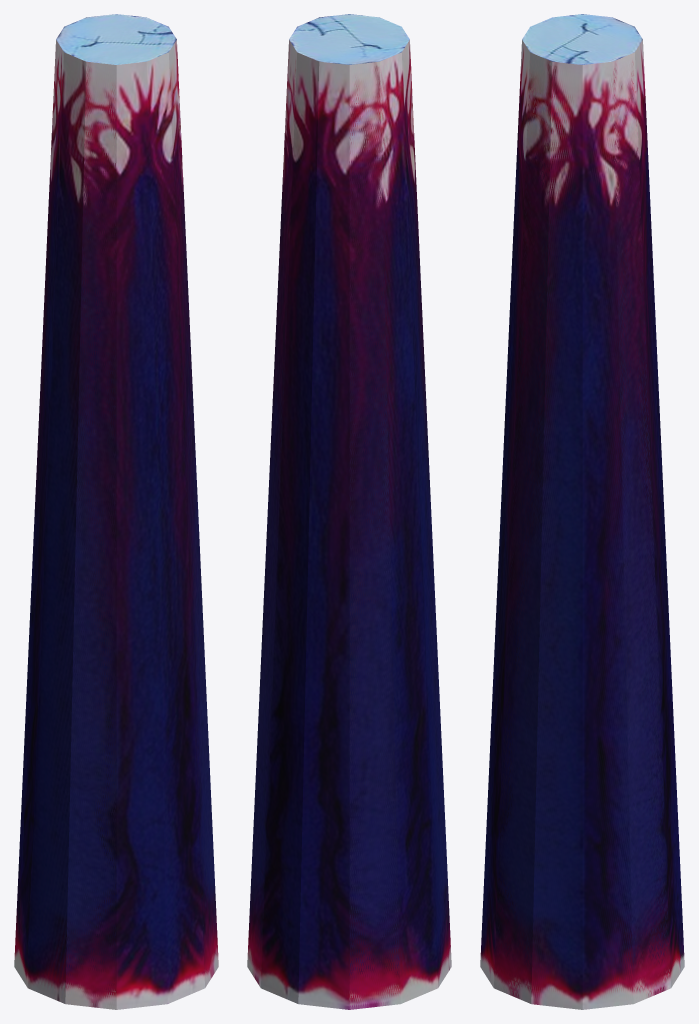
File: sea-root-south-texture-wrap-2026-05-15T01-47-18-792Z.glb
3 renders of one model, left to right at view 1: azimuth 30°, elevation 25°; view 2: azimuth 150°, elevation 25°; view 3: azimuth 270°, elevation 25°, orthographic.
Parts seen in each view (by area): view 1: GLTF; view 2: GLTF; view 3: GLTF.
Part boxes in pixels (bbox=[...]): GLTF: bbox=[14, 14, 218, 1009]; GLTF: bbox=[247, 14, 451, 1009]; GLTF: bbox=[480, 14, 684, 1009].
Size of the model in its own units: 12.12 by 60.59 by 12.12.
Materials: 1 (1 with a texture image).
